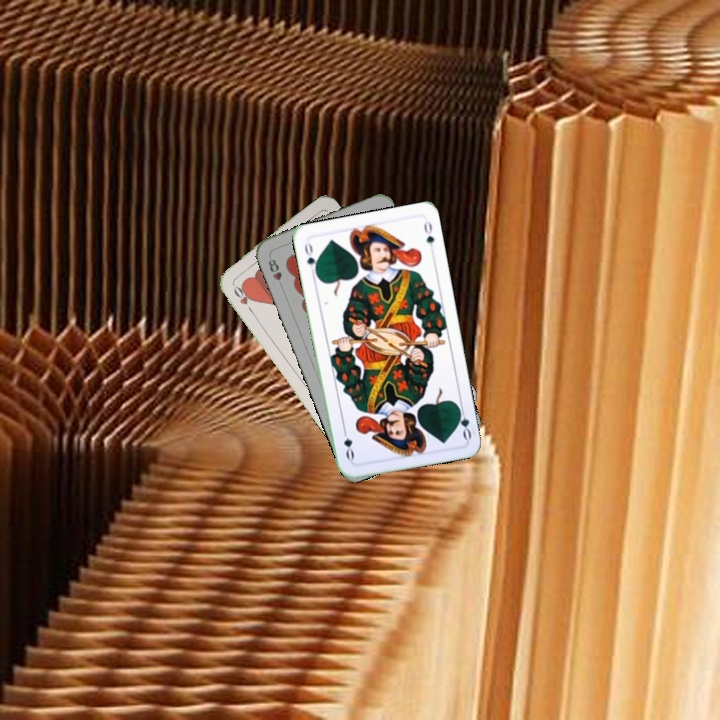GO: (453, 401, 474, 442), (300, 239, 320, 279)
H8: (264, 255, 285, 283)
HO: (228, 278, 256, 315)
